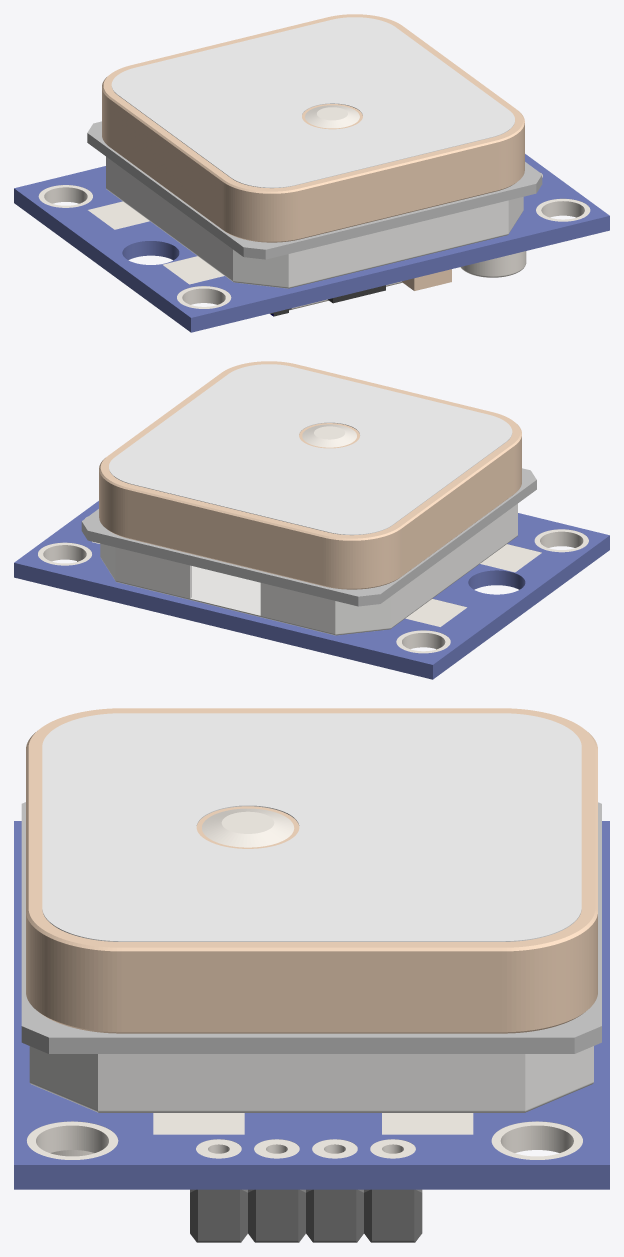
File: neo6m_gps.glb
The picture shows the model from 3 angles, top to bottom: view 1: azimuth 30°, elevation 25°; view 2: azimuth 150°, elevation 25°; view 3: azimuth 270°, elevation 25°; orthographic projection. The views are drawn at different scales.
Visible parts, largest first — view 1: Node1, Node8, Node4, Node10, Node3, Node9; view 2: Node1, Node8, Node4, Node10, Node9, Node3; view 3: Node1, Node8, Node4, Node10, Node9, Node3, Node11.
Part boxes in pixels (x1,y1,x2,y2): Node1: (111, 17, 514, 188); Node8: (102, 14, 524, 290); Node4: (14, 154, 609, 332); Node10: (106, 156, 523, 288); Node3: (38, 105, 590, 313); Node9: (87, 121, 542, 259); Node1: (109, 364, 512, 535); Node8: (99, 361, 521, 589); Node4: (14, 501, 609, 679); Node10: (100, 503, 517, 635); Node9: (81, 468, 536, 606); Node3: (38, 424, 588, 653); Node1: (42, 713, 581, 941); Node8: (26, 708, 597, 1033); Node4: (14, 821, 609, 1189); Node10: (29, 1046, 593, 1112); Node9: (21, 802, 601, 1053); Node3: (26, 808, 582, 1159); Node11: (190, 1189, 422, 1242).
Size of the model in its own units: 35.6 by 12.33 by 26.08.
